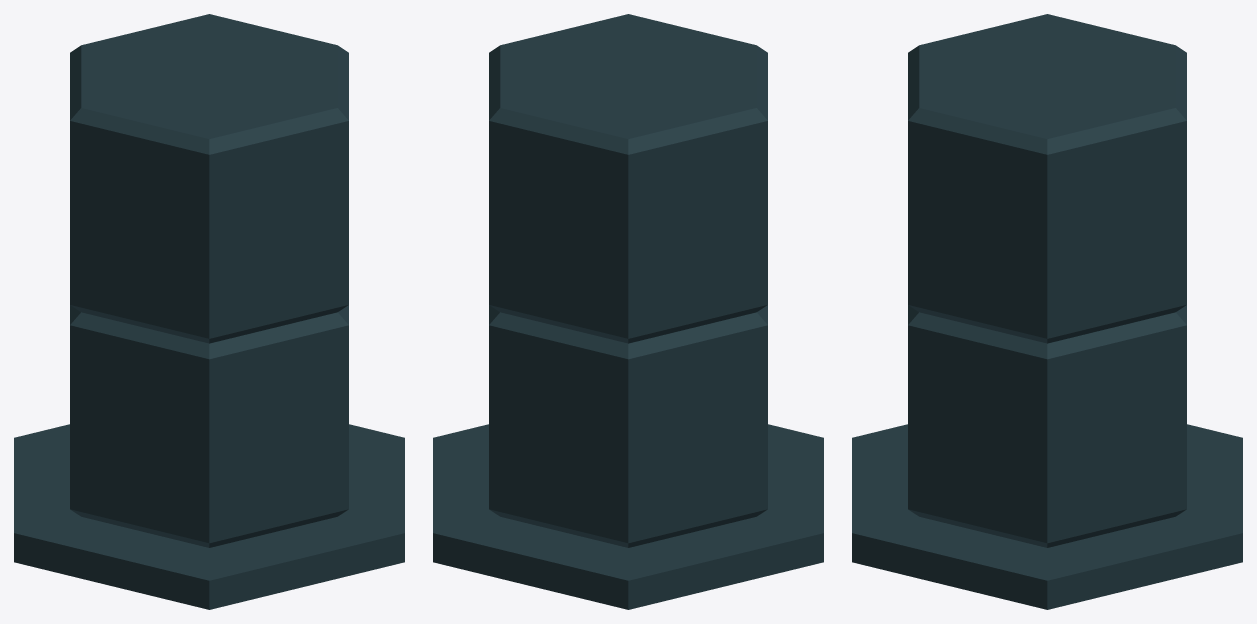
Rendered from column-water-02.fbx.
3 views of the same model, side by side, from view 1: azimuth 30°, elevation 25°; view 2: azimuth 150°, elevation 25°; view 3: azimuth 270°, elevation 25° (orthographic).
Visible parts, largest first — view 1: pCylinder45, pCylinder44, pCylinder48; view 2: pCylinder45, pCylinder44, pCylinder48; view 3: pCylinder45, pCylinder44, pCylinder48.
Boxes of the visible parts, box(x1,y1,x2,y2) form: pCylinder45: box(70, 14, 348, 343); pCylinder44: box(70, 305, 348, 547); pCylinder48: box(14, 424, 404, 609); pCylinder45: box(489, 14, 767, 343); pCylinder44: box(489, 305, 767, 547); pCylinder48: box(433, 424, 823, 609); pCylinder45: box(908, 14, 1186, 343); pCylinder44: box(908, 305, 1186, 547); pCylinder48: box(852, 424, 1242, 609).
Bounding box in the file's own units: 2.8 × 3 × 2.42.
